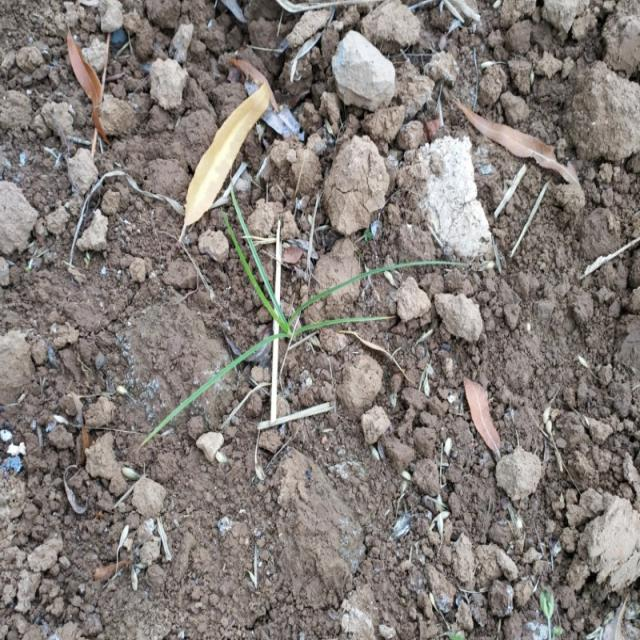sedge: (118, 221, 426, 428)
